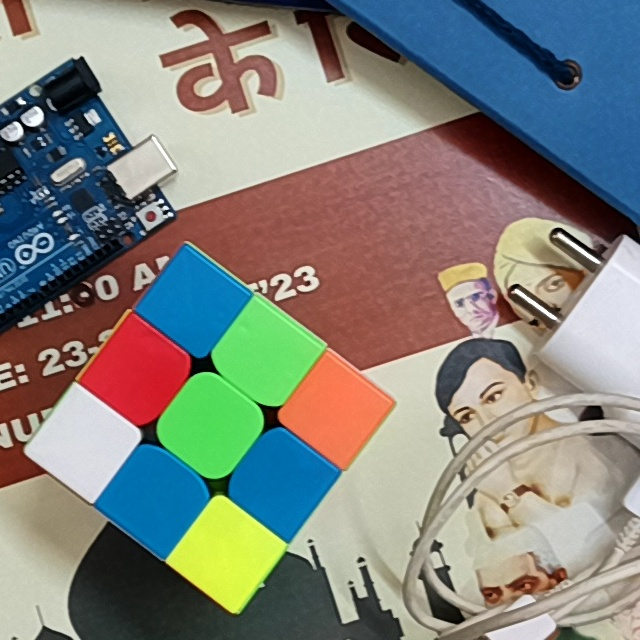tile: (122, 469, 187, 526), (251, 451, 312, 509), (56, 412, 114, 473), (180, 396, 240, 454), (164, 274, 222, 333), (305, 382, 365, 439), (198, 525, 256, 583), (237, 324, 294, 383), (108, 344, 167, 401)
